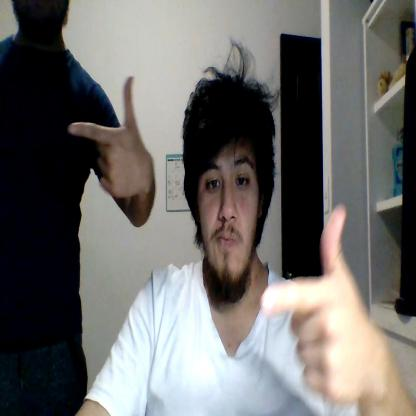G: (260, 206, 360, 403), (68, 75, 139, 195)
